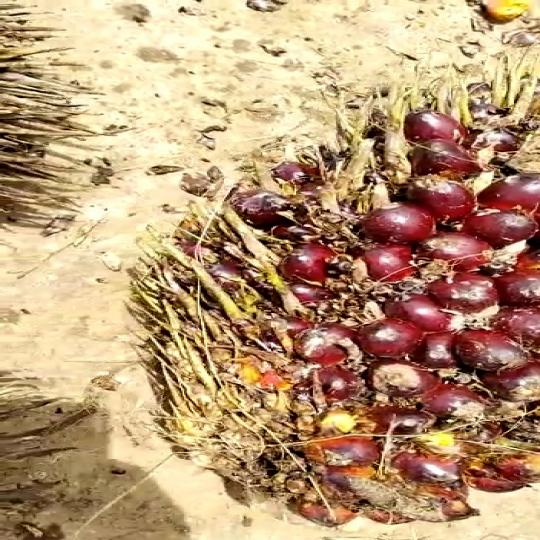kurang masak: (142, 80, 540, 540)
